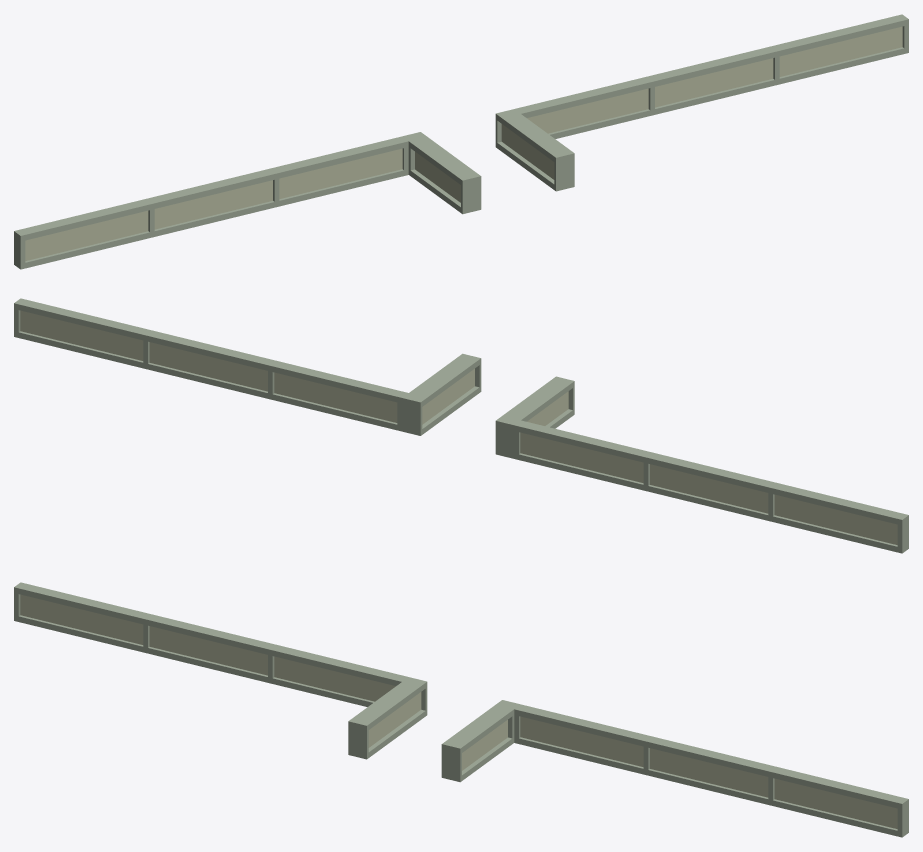
File: Barrière 4.fbx
3 views of the same model, one above another, from view 1: azimuth 30°, elevation 25°; view 2: azimuth 150°, elevation 25°; view 3: azimuth 330°, elevation 25° (orthographic).
Parts seen in each view (by area): view 1: Rambarde Droite 2.003; view 2: Rambarde Droite 2.003; view 3: Rambarde Droite 2.003.
Boxes of the visible parts, bbox=[...] form: Rambarde Droite 2.003: bbox=[14, 14, 908, 269]; Rambarde Droite 2.003: bbox=[14, 298, 908, 553]; Rambarde Droite 2.003: bbox=[14, 582, 908, 837].
Size of the model in its own units: 1682 by 60.92 by 198.
